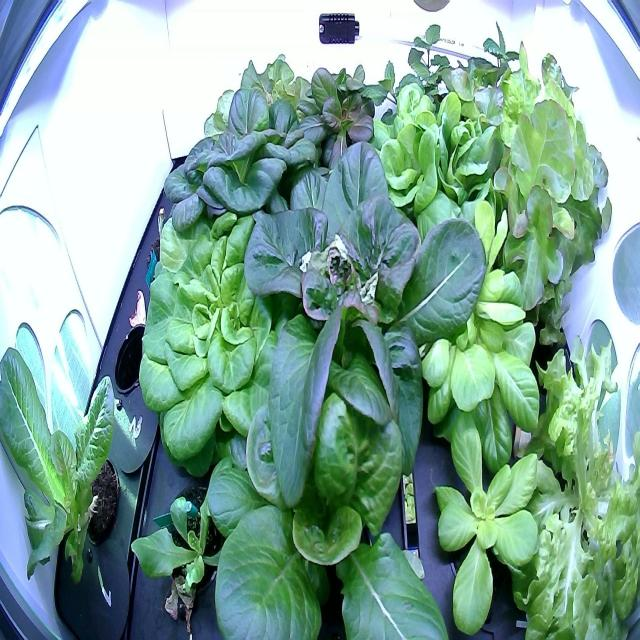Ready: (237, 122, 493, 519), (132, 170, 331, 488), (396, 196, 560, 472), (154, 67, 338, 253), (364, 74, 512, 290)
empty_pod: (106, 300, 161, 406)
young: (193, 351, 454, 639), (416, 391, 554, 639), (0, 338, 125, 600), (126, 460, 251, 635), (295, 44, 386, 180)
